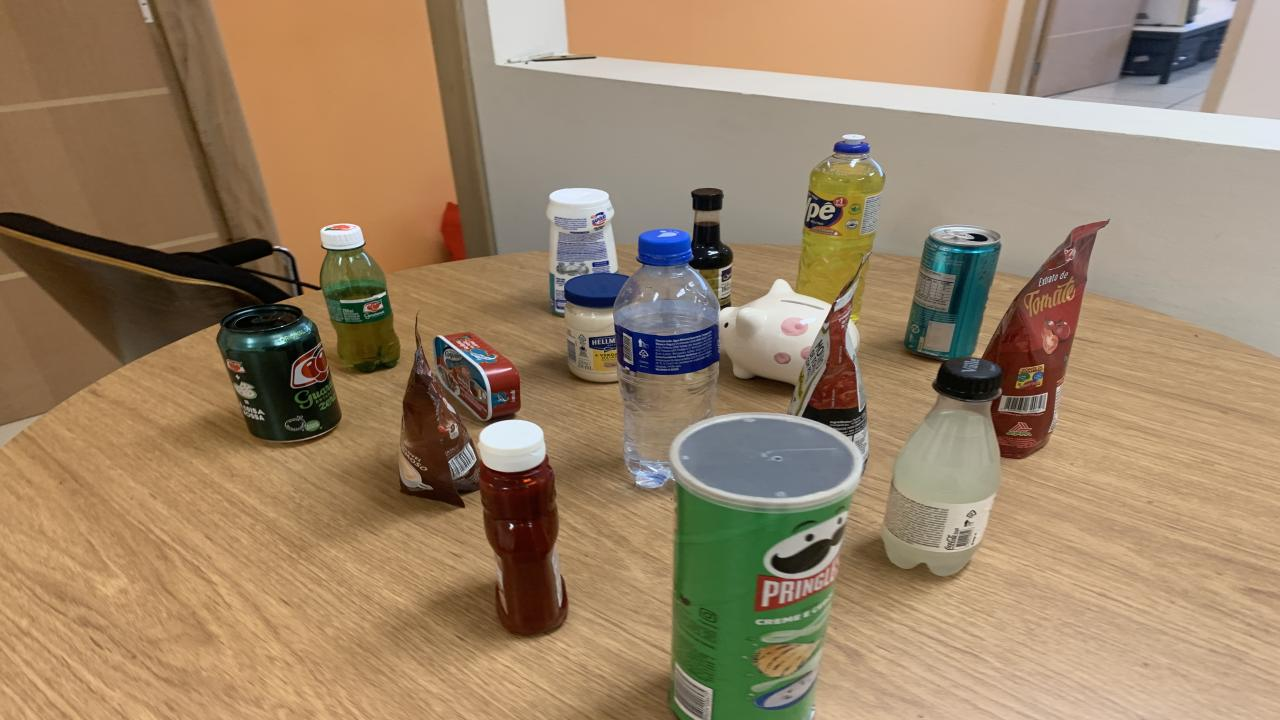Cleaner-Cleanup_Items: (545, 188, 618, 315)
Coffee-Pantry_Items: (400, 322, 480, 506)
Detergent-Cleanup_Items: (795, 135, 885, 302)
English_Sauce-Pantry_Items: (690, 188, 732, 308)
Guarana-Drinks: (320, 223, 400, 373)
Guarana_Can-Drinks: (218, 304, 340, 442)
Ketchup-Pantry_Items: (478, 420, 568, 636)
Mayonnaise-Pantry_Items: (565, 272, 628, 382)
Pig_Safe-Miscellaneous: (720, 279, 830, 384)
Pringles-Snacks: (670, 412, 862, 720)
Soda-Drinks: (882, 356, 1002, 576)
Tea-Drinks: (905, 225, 1000, 360)
Tomato_Sauce-Pantry_Items: (982, 221, 1108, 458), (790, 253, 870, 459)
Tuna_Can-Pantry_Items: (435, 332, 520, 422)
Water_Bottle-Drinks: (612, 229, 720, 488)
